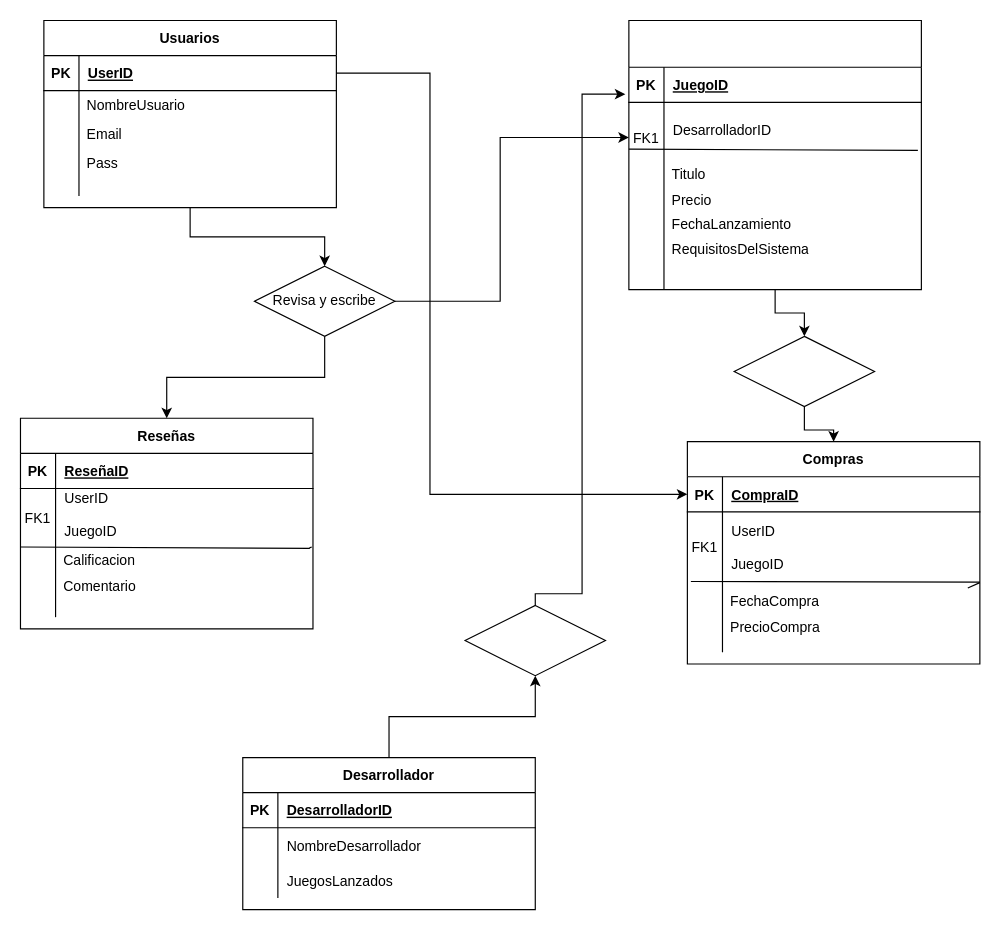
This 1002x930 diagram has some shape labels left out. Each missing label, with the box of its shape:
Crean: (464, 604, 605, 676)
Vendidos: (733, 335, 875, 407)
Videojuegos: (628, 19, 921, 290)
